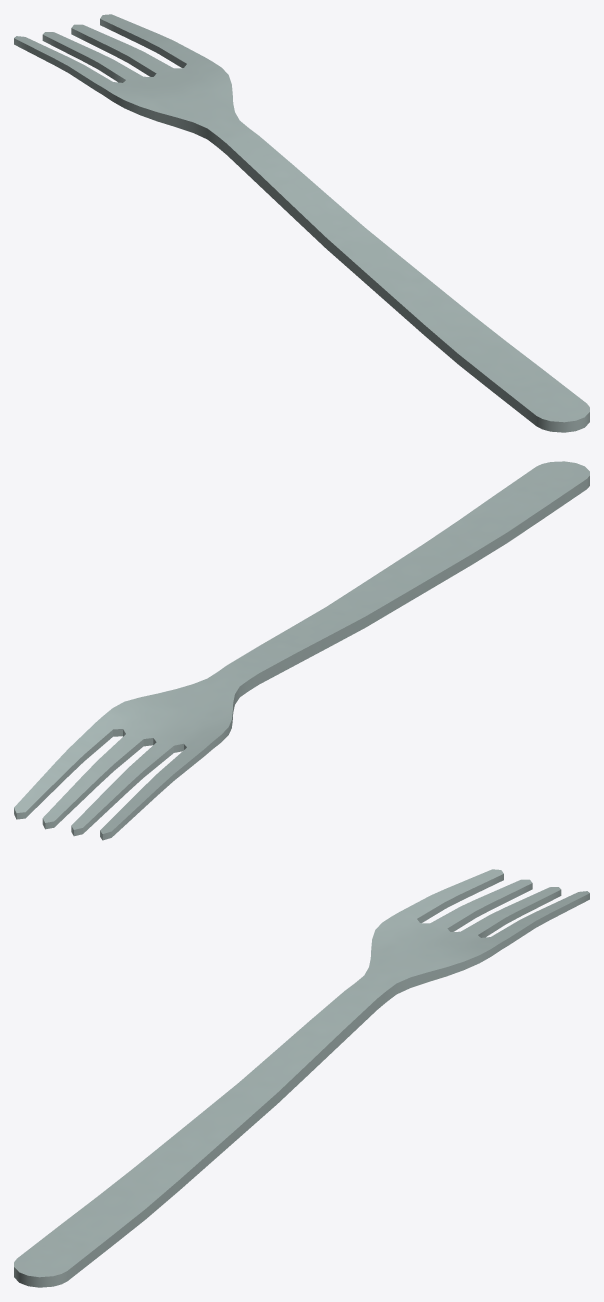
File: 07_Dinner_Fork.fbx
The picture shows the model from 3 angles, top to bottom: view 1: azimuth 30°, elevation 25°; view 2: azimuth 150°, elevation 25°; view 3: azimuth 330°, elevation 25°; orthographic projection.
Parts seen in each view (by area): view 1: 07_Dinner_Fork_Mesh.001; view 2: 07_Dinner_Fork_Mesh.001; view 3: 07_Dinner_Fork_Mesh.001.
Boxes of the visible parts, bbox=[...] form: 07_Dinner_Fork_Mesh.001: bbox=[14, 14, 589, 432]; 07_Dinner_Fork_Mesh.001: bbox=[14, 461, 589, 840]; 07_Dinner_Fork_Mesh.001: bbox=[14, 869, 589, 1287].
Size of the model in its own units: 2.5 by 1.13 by 20.56.
Materials: 1 (1 with a texture image).
